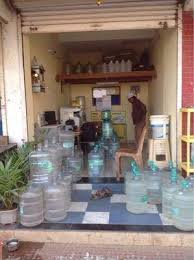Bisleri: (90, 159, 107, 166), (139, 195, 148, 203)
plastic: (34, 152, 76, 217), (134, 170, 191, 215)
